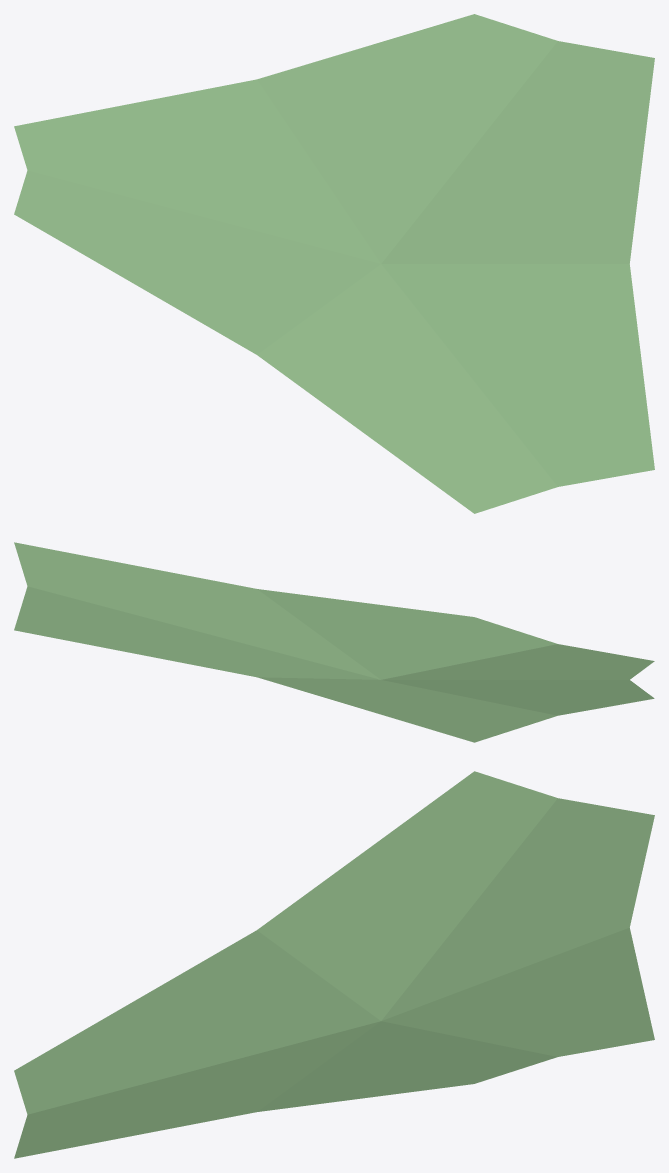
The model's file is 011.EdgeStitch.P0.L_B0.L_P0.O_B0.R_P0.R_B0.0.fbx.
The picture shows the model from 3 angles, top to bottom: view 1: azimuth 30°, elevation 25°; view 2: azimuth 150°, elevation 25°; view 3: azimuth 270°, elevation 25°; orthographic projection.
Parts seen in each view (by area): view 1: 011..EdgeStitch.P0.L_B0.L_P0.O_B0.R_P0.R_B0.0; view 2: 011..EdgeStitch.P0.L_B0.L_P0.O_B0.R_P0.R_B0.0; view 3: 011..EdgeStitch.P0.L_B0.L_P0.O_B0.R_P0.R_B0.0.
Part boxes in pixels (x1,y1,x2,y2): 011..EdgeStitch.P0.L_B0.L_P0.O_B0.R_P0.R_B0.0: (14, 14, 654, 513); 011..EdgeStitch.P0.L_B0.L_P0.O_B0.R_P0.R_B0.0: (14, 542, 654, 742); 011..EdgeStitch.P0.L_B0.L_P0.O_B0.R_P0.R_B0.0: (14, 771, 654, 1158).
Bounding box in the file's own units: 0.7168 × 0.6208 × 0.2.
